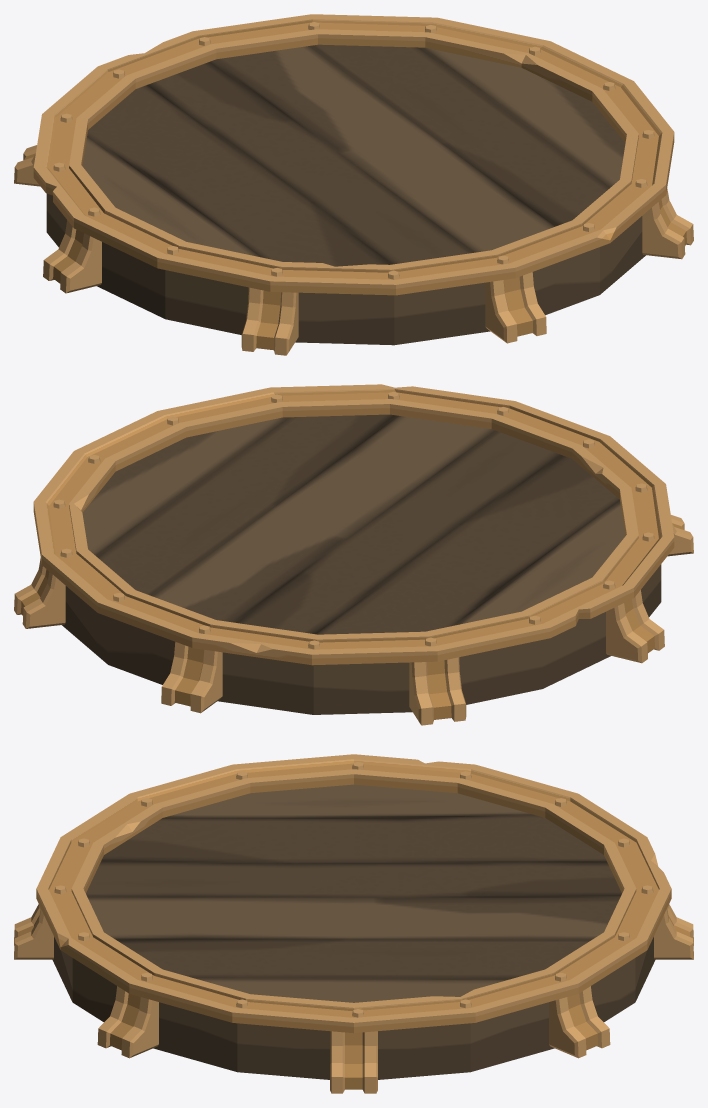
Rendered from SM_Prop_Cannon_Base_02.fbx.
The picture shows the model from 3 angles, top to bottom: view 1: azimuth 30°, elevation 25°; view 2: azimuth 150°, elevation 25°; view 3: azimuth 270°, elevation 25°; orthographic projection.
Parts seen in each view (by area): view 1: SM_Prop_Cannon_Base_02; view 2: SM_Prop_Cannon_Base_02; view 3: SM_Prop_Cannon_Base_02.
Boxes of the visible parts, <box> form: SM_Prop_Cannon_Base_02: <box>14,14,693,355</box>; SM_Prop_Cannon_Base_02: <box>14,384,693,725</box>; SM_Prop_Cannon_Base_02: <box>14,754,693,1093</box>.
Bounding box in the file's own units: 384 × 40.8 × 384.
